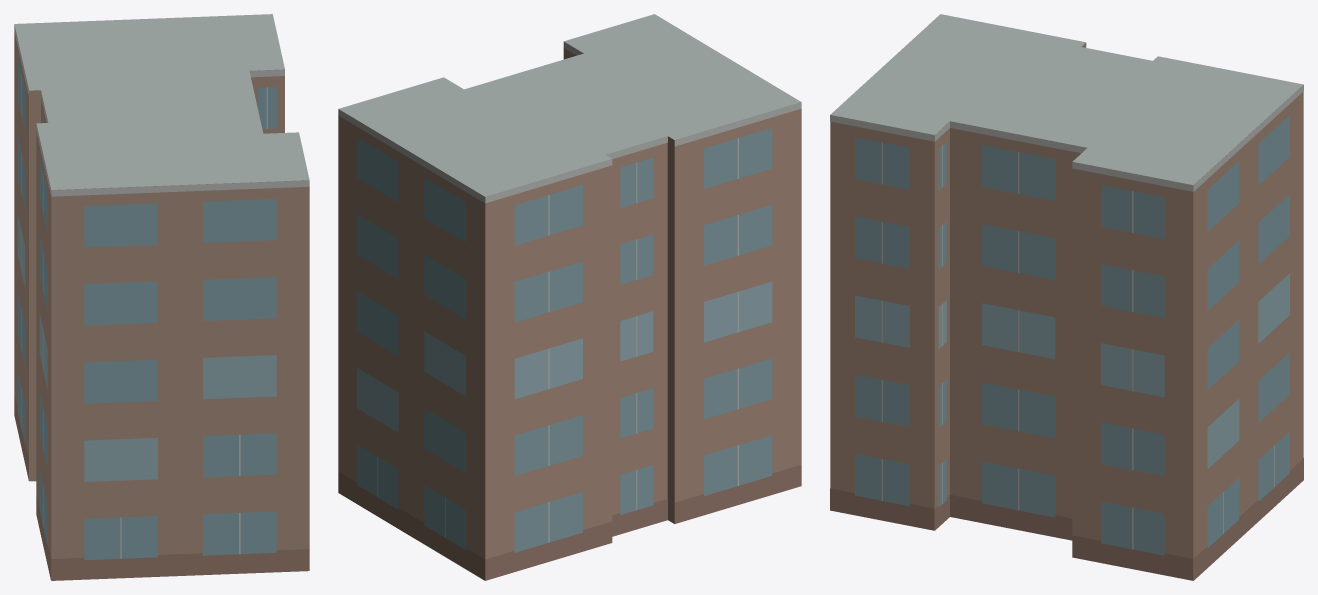
File: survey-upis-33013861.glb
3 renders of one model, left to right at view 1: azimuth 30°, elevation 25°; view 2: azimuth 150°, elevation 25°; view 3: azimuth 270°, elevation 25°, orthographic. The views are drawn at different scales.
Visible parts, largest first — view 1: survey-upis-33013861.tmp; view 2: survey-upis-33013861.tmp; view 3: survey-upis-33013861.tmp.
Boxes of the visible parts, x1,y1,x2,y2 form: survey-upis-33013861.tmp: [14, 14, 309, 580]; survey-upis-33013861.tmp: [338, 14, 801, 580]; survey-upis-33013861.tmp: [830, 14, 1303, 580].
Bounding box in the file's own units: 13.42 × 14.45 × 15.69.
